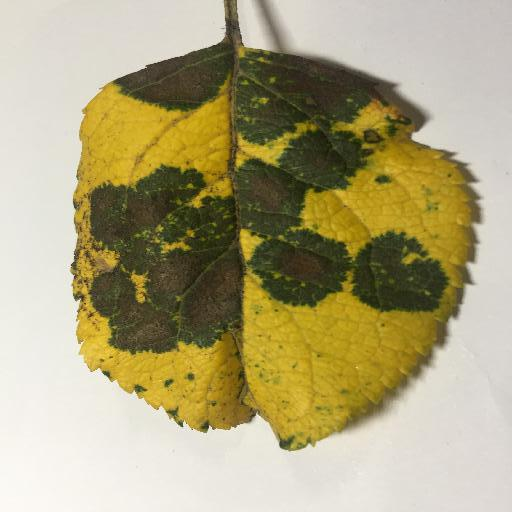Brown_Spot: (98, 188, 233, 332), (129, 62, 204, 108), (241, 176, 285, 235), (275, 242, 334, 283)
